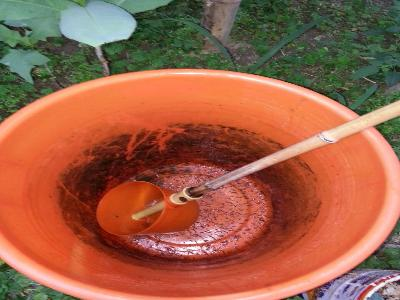bowl: (93, 180, 200, 237)
bucket: (1, 67, 399, 299)
